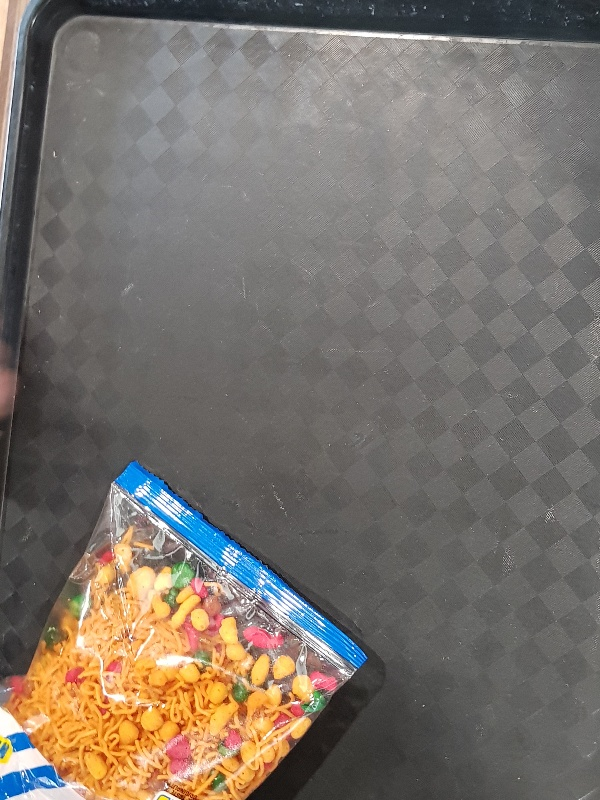Star Tidbits Mixer: (1, 460, 367, 800)
